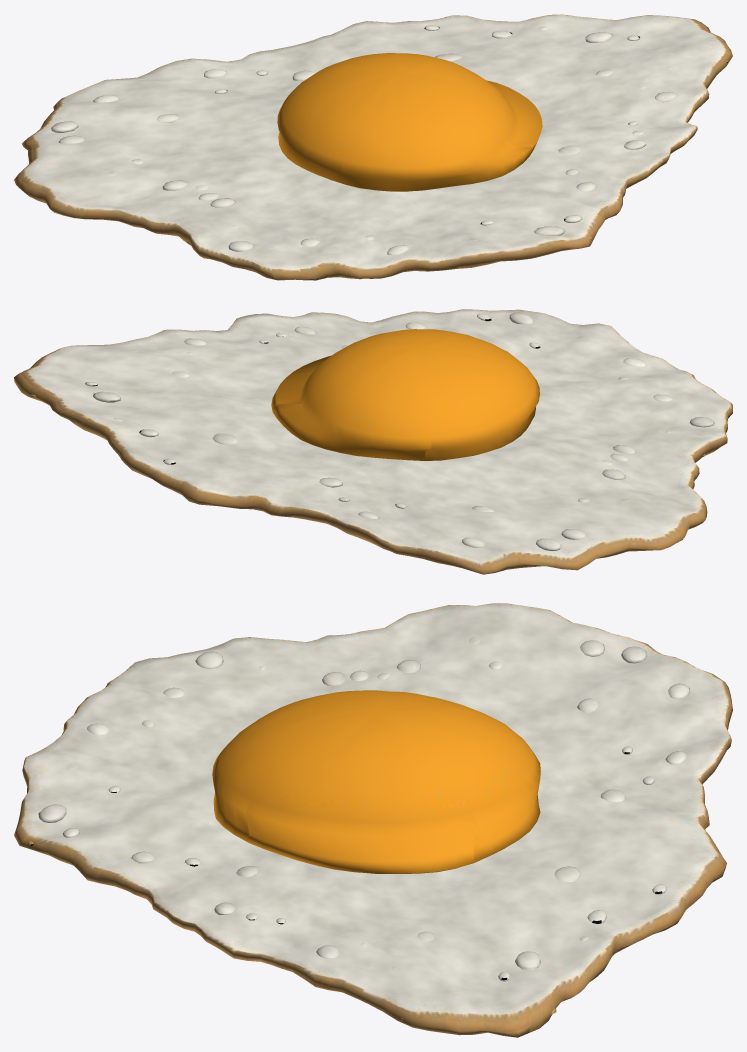
The model's file is savory-egg-sunny.glb.
3 views of the same model, one above another, from view 1: azimuth 30°, elevation 25°; view 2: azimuth 150°, elevation 25°; view 3: azimuth 270°, elevation 25° (orthographic). The views are drawn at different scales.
Parts seen in each view (by area): view 1: savory-egg-sunny; view 2: savory-egg-sunny; view 3: savory-egg-sunny.
Boxes of the visible parts, <box> form: savory-egg-sunny: <box>14,14,732,280</box>; savory-egg-sunny: <box>14,309,732,574</box>; savory-egg-sunny: <box>14,603,732,1037</box>.
Bounding box in the file's own units: 1.65 × 0.195 × 1.18.
Materials: 2 (2 with a texture image).
